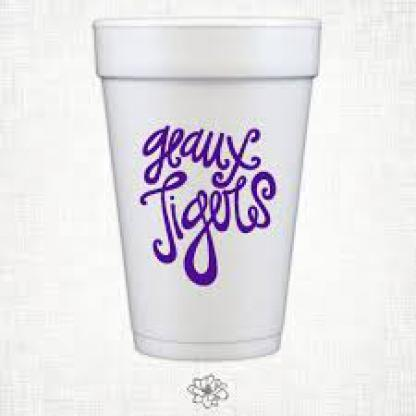paper: (92, 13, 318, 359)
